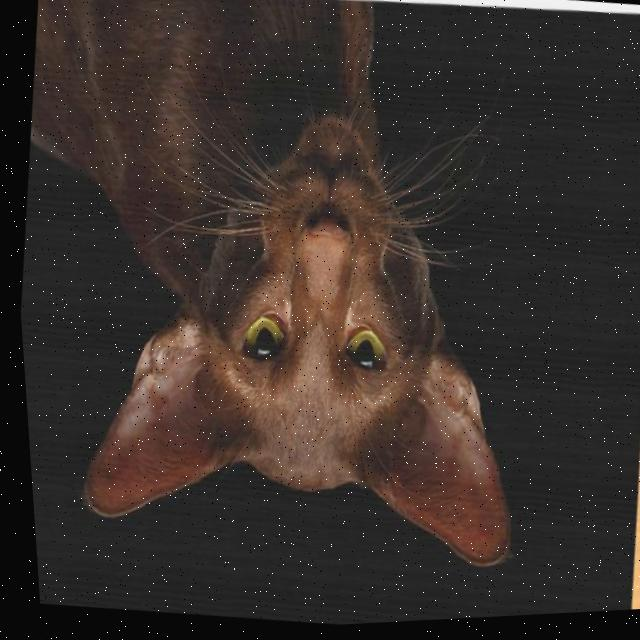Oriental: (0, 0, 571, 598)
